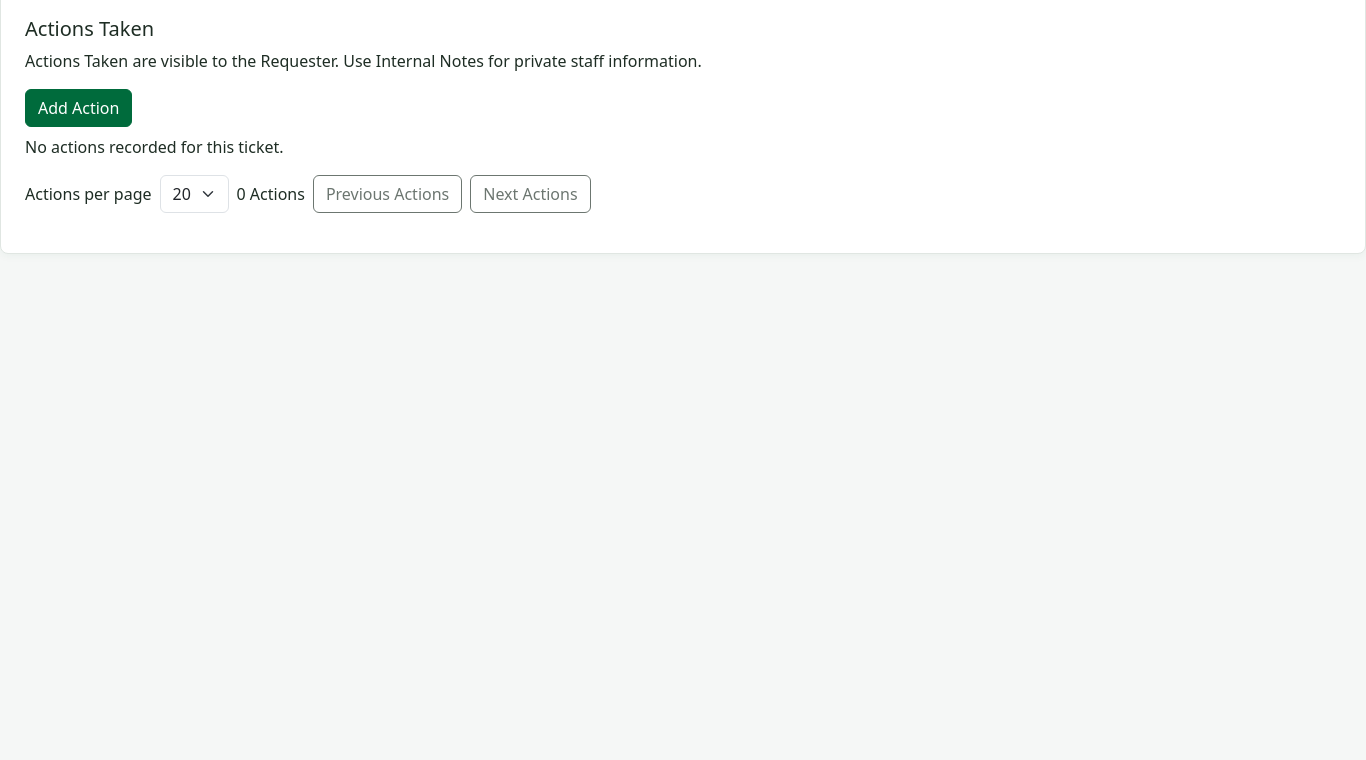
Test case: Actions Taken › shows empty history and eligible assignees defaulting to current staff
Expected: the text "No actions recorded for this ticket." is shown, [25,136,284,158]
Click the button "Add Action": (79, 108) [25,89,132,127]
(page scrolled)
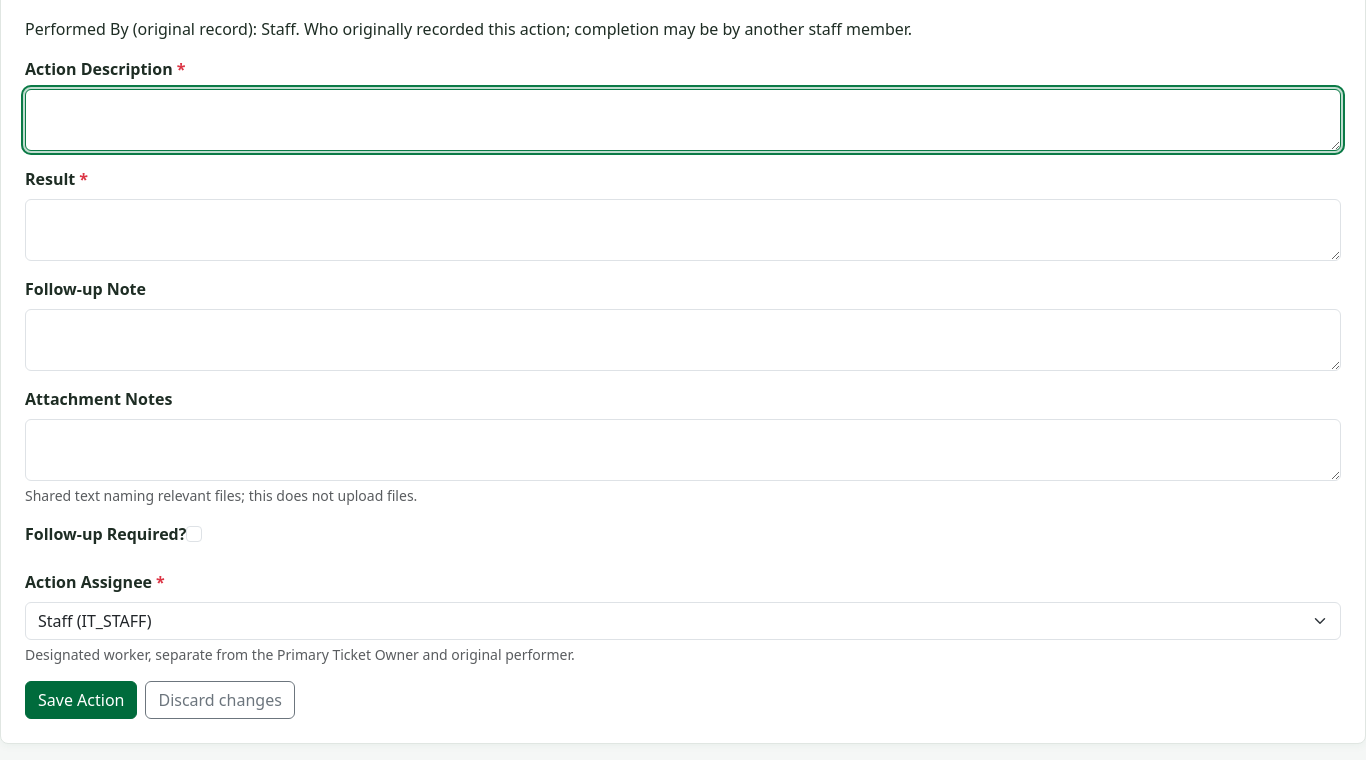
Expected: the dropdown labelled "Action Assignee" shows "Staff (IT_STAFF)", [25,602,1341,640]
